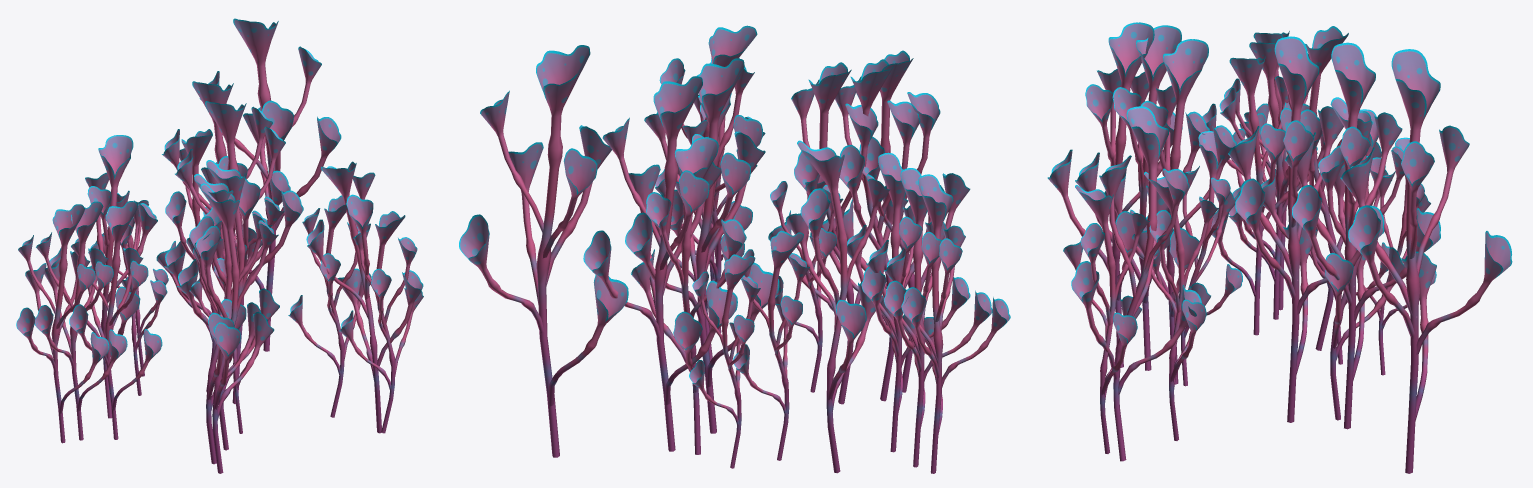
Rendered from EXP_Flower_Underwater.fbx.
3 views of the same model, side by side, from view 1: azimuth 30°, elevation 25°; view 2: azimuth 150°, elevation 25°; view 3: azimuth 270°, elevation 25° (orthographic). The views are drawn at different scales.
Parts seen in each view (by area): view 1: OBJ_Flower_Underwater_02_lod0, OBJ_Flower_Underwater_03_lod0, OBJ_Flower_Underwater_01_lod0; view 2: OBJ_Flower_Underwater_03_lod0, OBJ_Flower_Underwater_02_lod0, OBJ_Flower_Underwater_01_lod0; view 3: OBJ_Flower_Underwater_03_lod0, OBJ_Flower_Underwater_02_lod0, OBJ_Flower_Underwater_01_lod0.
Boxes of the visible parts, bbox=[...] form: OBJ_Flower_Underwater_02_lod0: bbox=[16, 81, 423, 473]; OBJ_Flower_Underwater_03_lod0: bbox=[34, 18, 423, 464]; OBJ_Flower_Underwater_01_lod0: bbox=[69, 101, 371, 450]; OBJ_Flower_Underwater_03_lod0: bbox=[459, 25, 992, 468]; OBJ_Flower_Underwater_02_lod0: bbox=[583, 50, 1010, 473]; OBJ_Flower_Underwater_01_lod0: bbox=[625, 58, 970, 460]; OBJ_Flower_Underwater_03_lod0: bbox=[1071, 25, 1512, 473]; OBJ_Flower_Underwater_02_lod0: bbox=[1047, 22, 1440, 453]; OBJ_Flower_Underwater_01_lod0: bbox=[1104, 36, 1394, 440].
Size of what is drawn, in the model's own units: 176 by 155 by 161.
1 material, 1 textured.
